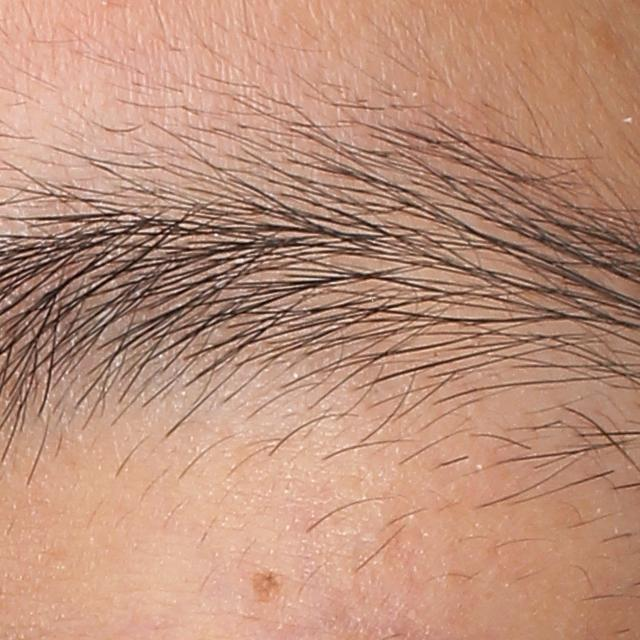nevus: (252, 568, 288, 604)
